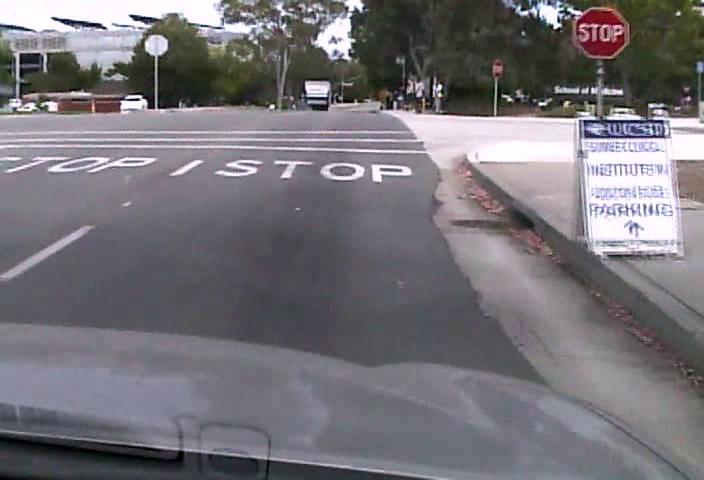stop: (572, 6, 629, 58)
